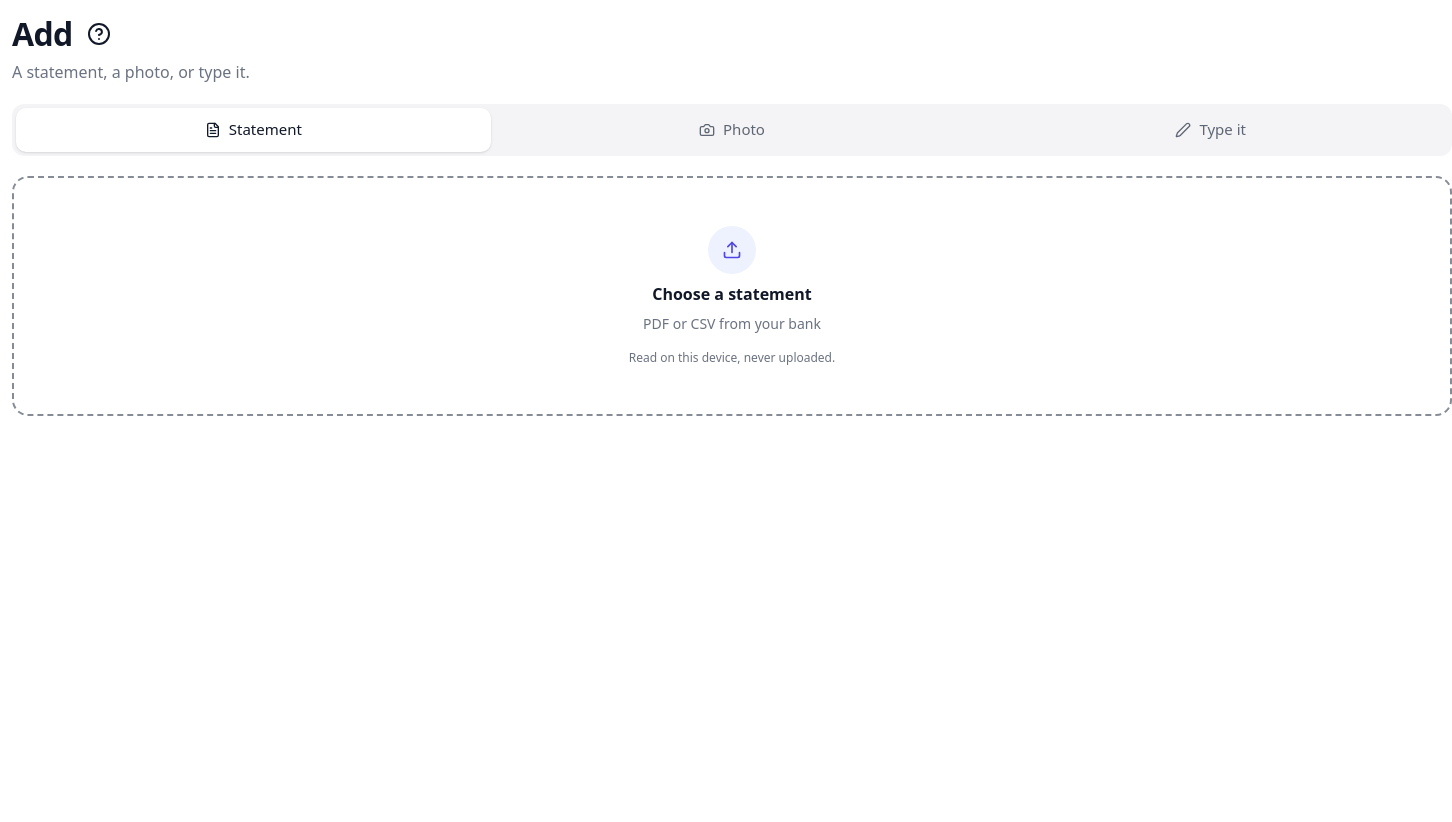
Type it › still asks for a date no later than today
Click the tab "Type it" at [1211, 130], box [973,108,1448,152]
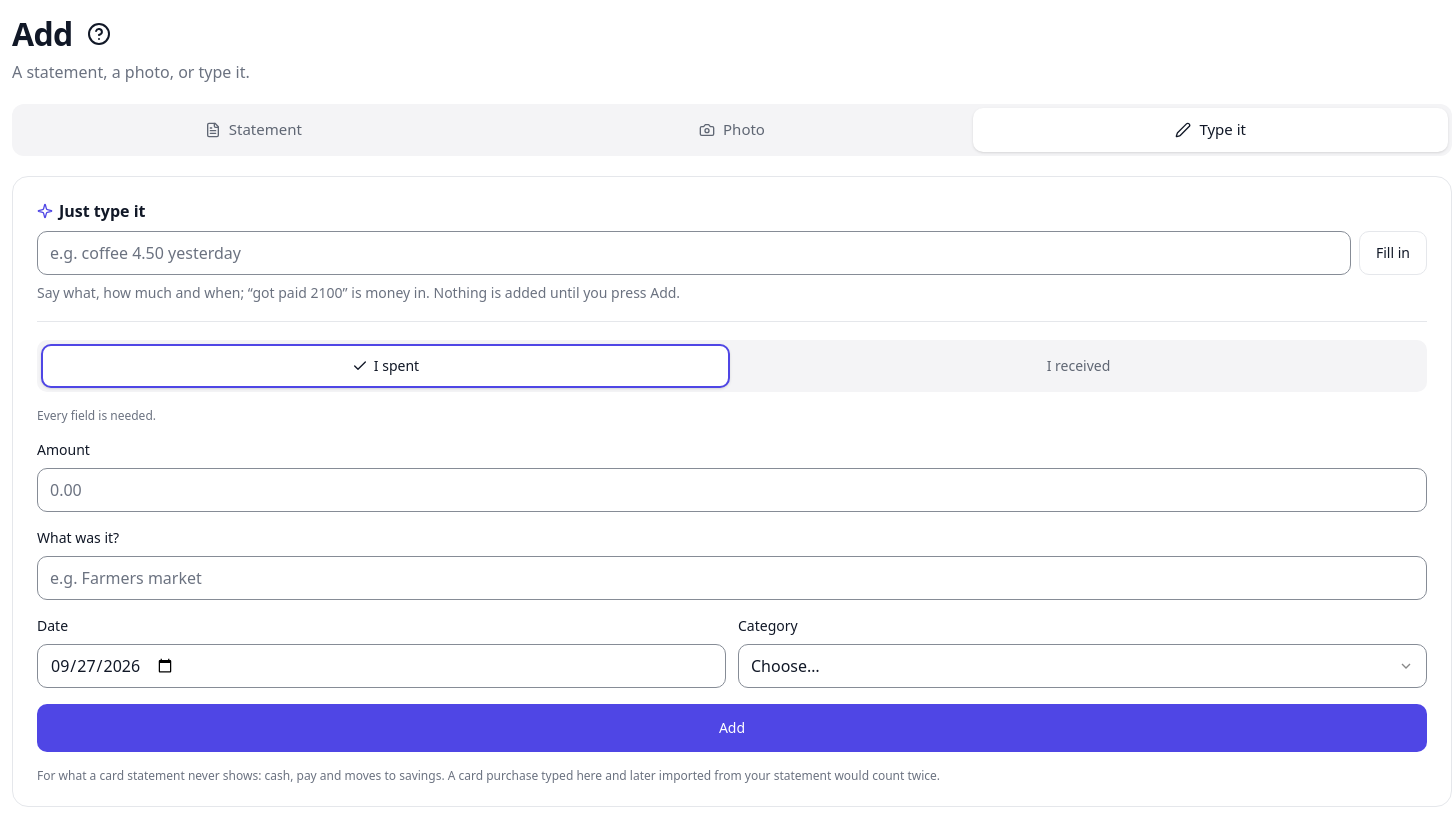
Type "40" into the field labelled "Amount" at [732, 490], box [37,468,1427,512]
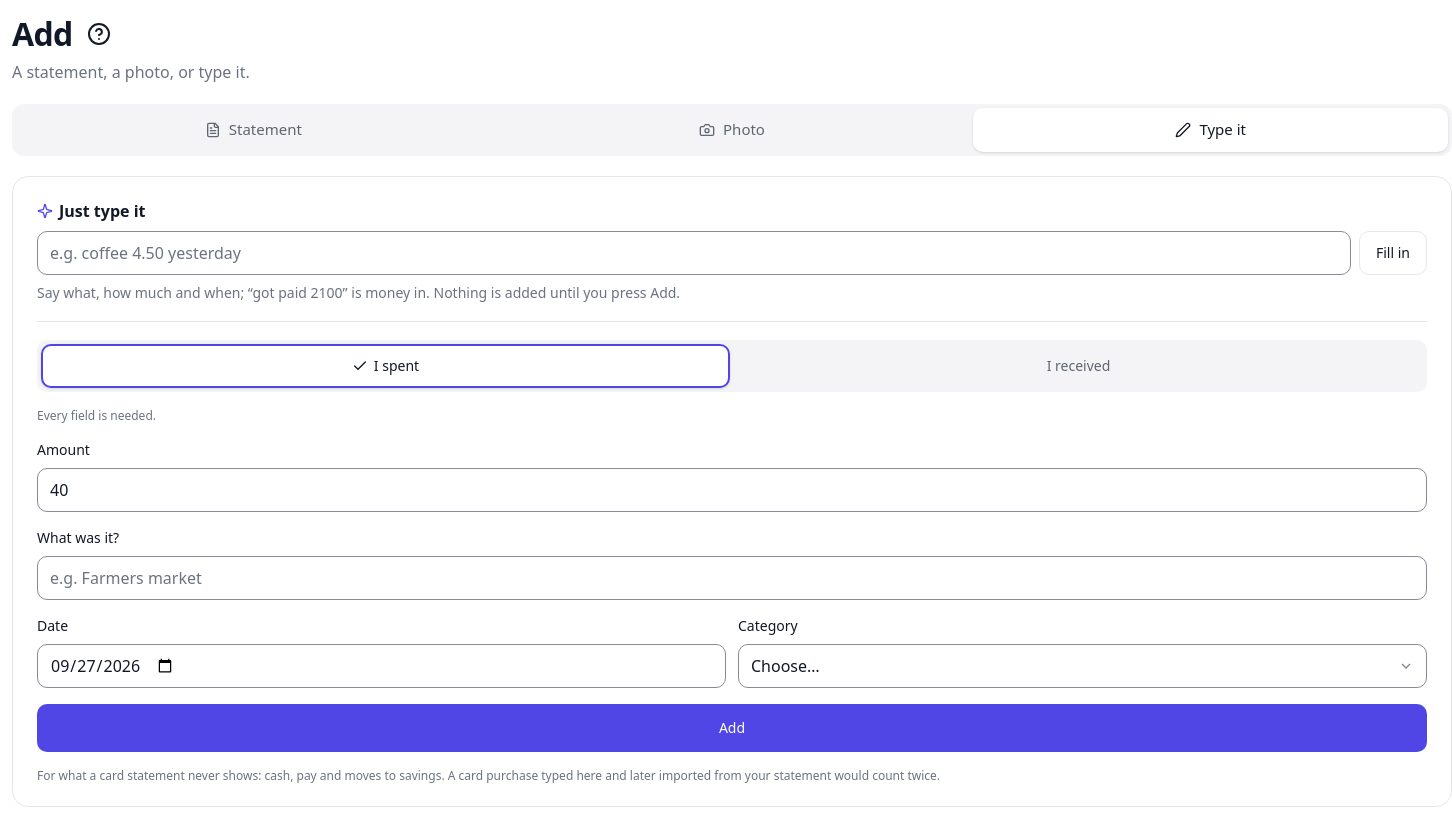
Type "Dentist" into the field labelled "What was it?" at [732, 578], box [37,556,1427,600]
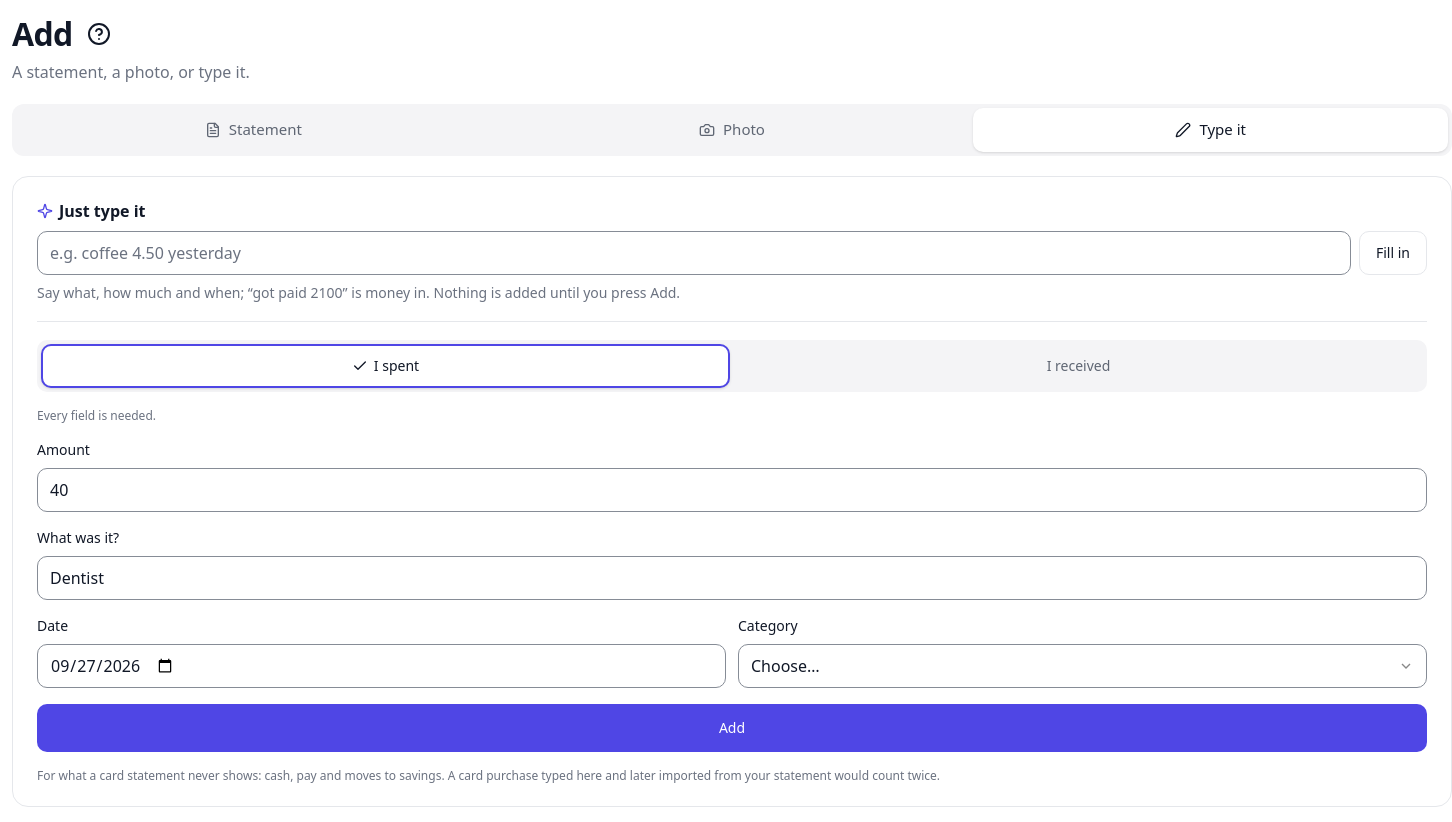
Select "Groceries" in the dropdown labelled "Category" at [1082, 666], box [738,644,1427,688]
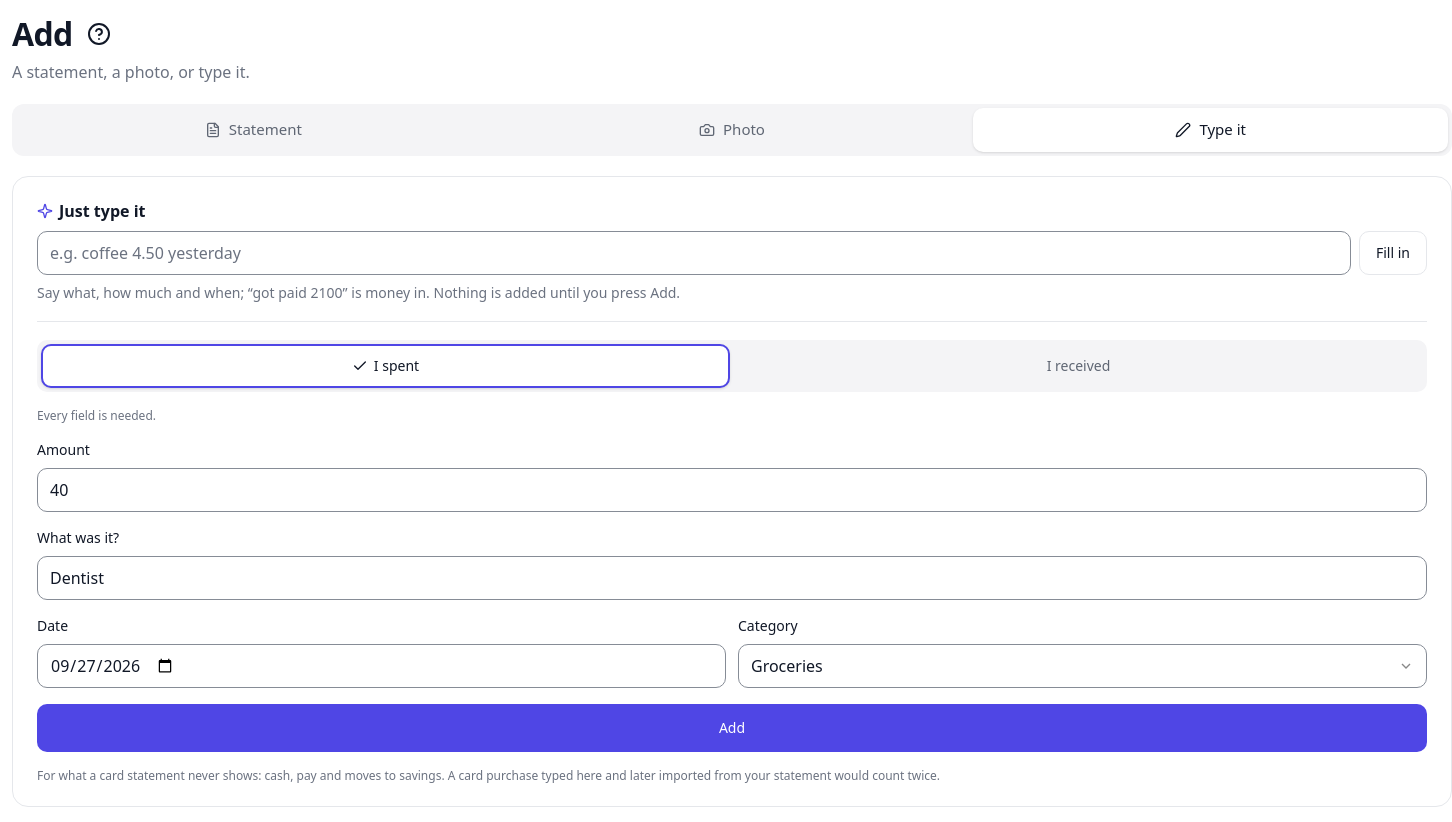
Type "2026-09-28" into the date field labelled "Date" at [382, 666], box [37,644,726,688]
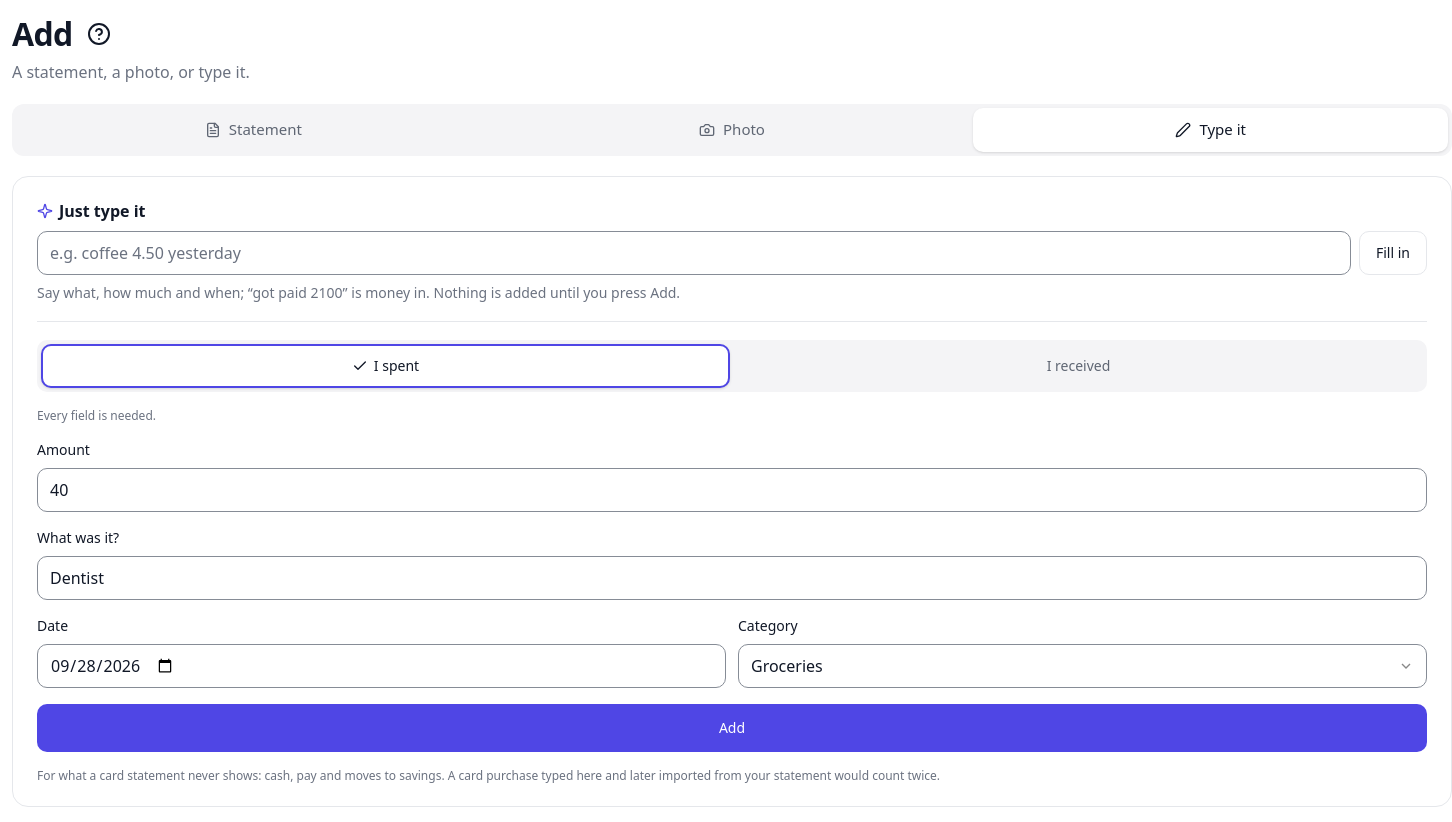
Click the button "Add" at [732, 728], box [37,704,1427,752]
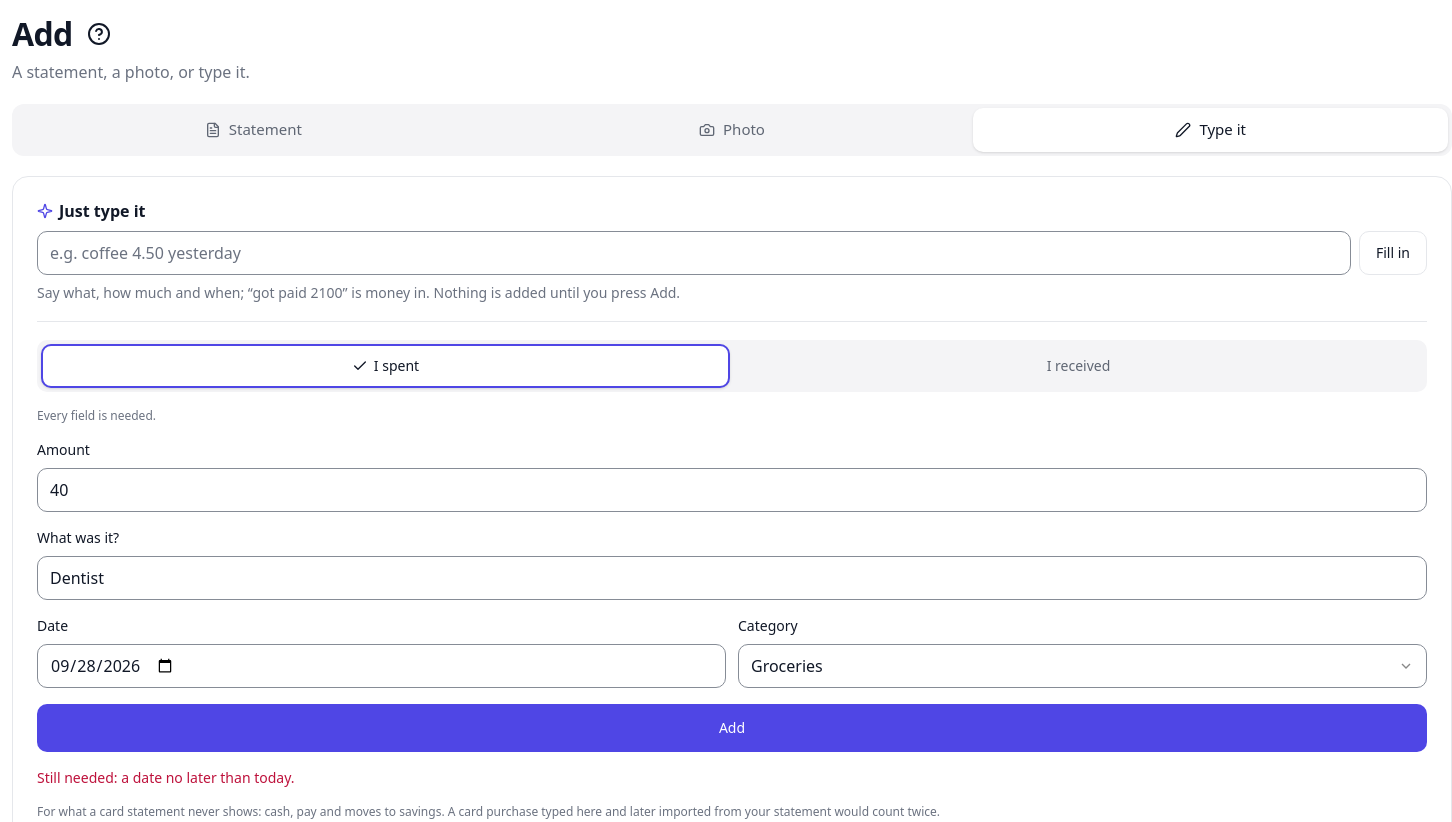
Now the text "Still needed: a date no later than today." is shown, box [37,768,294,787]
